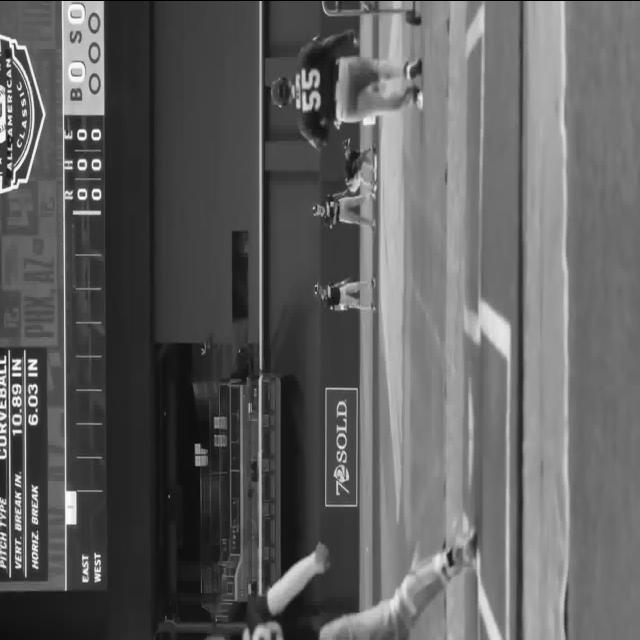base: (373, 142, 381, 196)
shoe: (442, 527, 478, 578), (405, 86, 423, 110), (405, 58, 422, 80), (416, 89, 424, 110), (371, 217, 376, 233), (372, 180, 378, 192), (371, 276, 376, 288), (371, 302, 376, 312), (372, 190, 376, 200)
